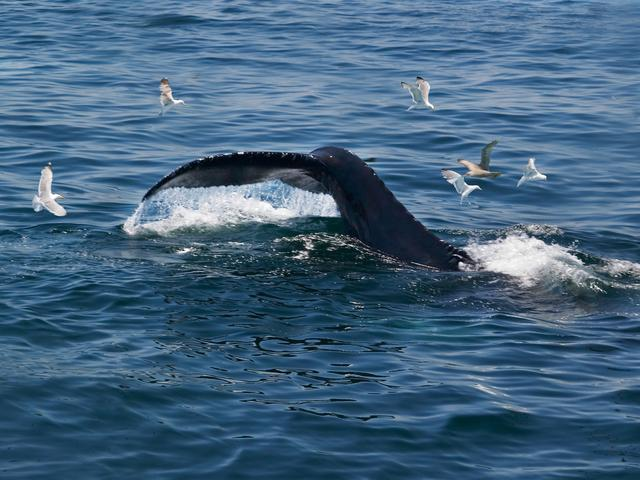dolphin: (138, 130, 579, 310)
